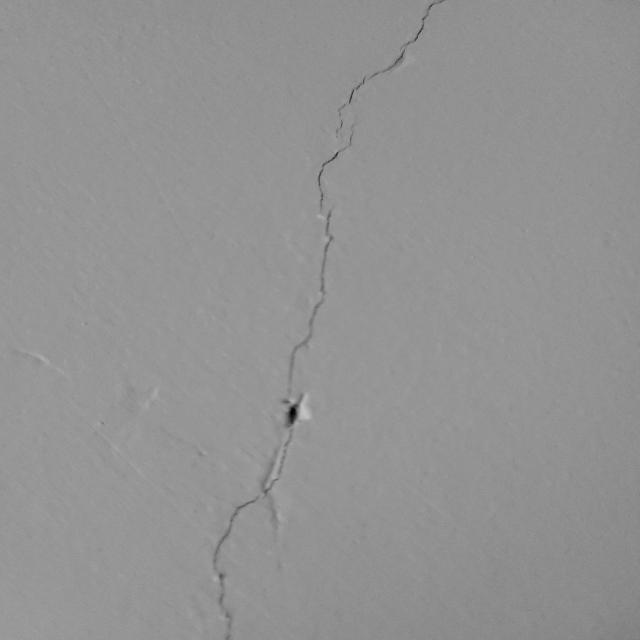rough and patchy surface: (5, 339, 221, 540), (257, 388, 335, 576)
